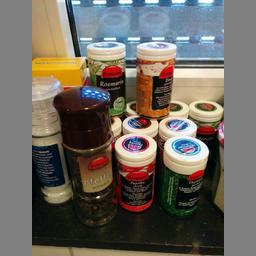spices: (52, 85, 116, 232), (31, 76, 71, 204), (160, 134, 208, 215), (114, 130, 154, 212), (134, 39, 170, 118), (86, 40, 124, 114)
